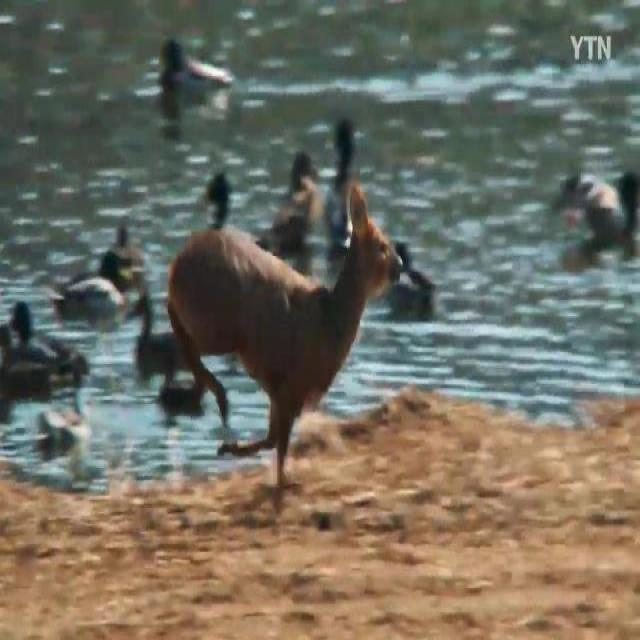deer: (167, 181, 406, 499)
